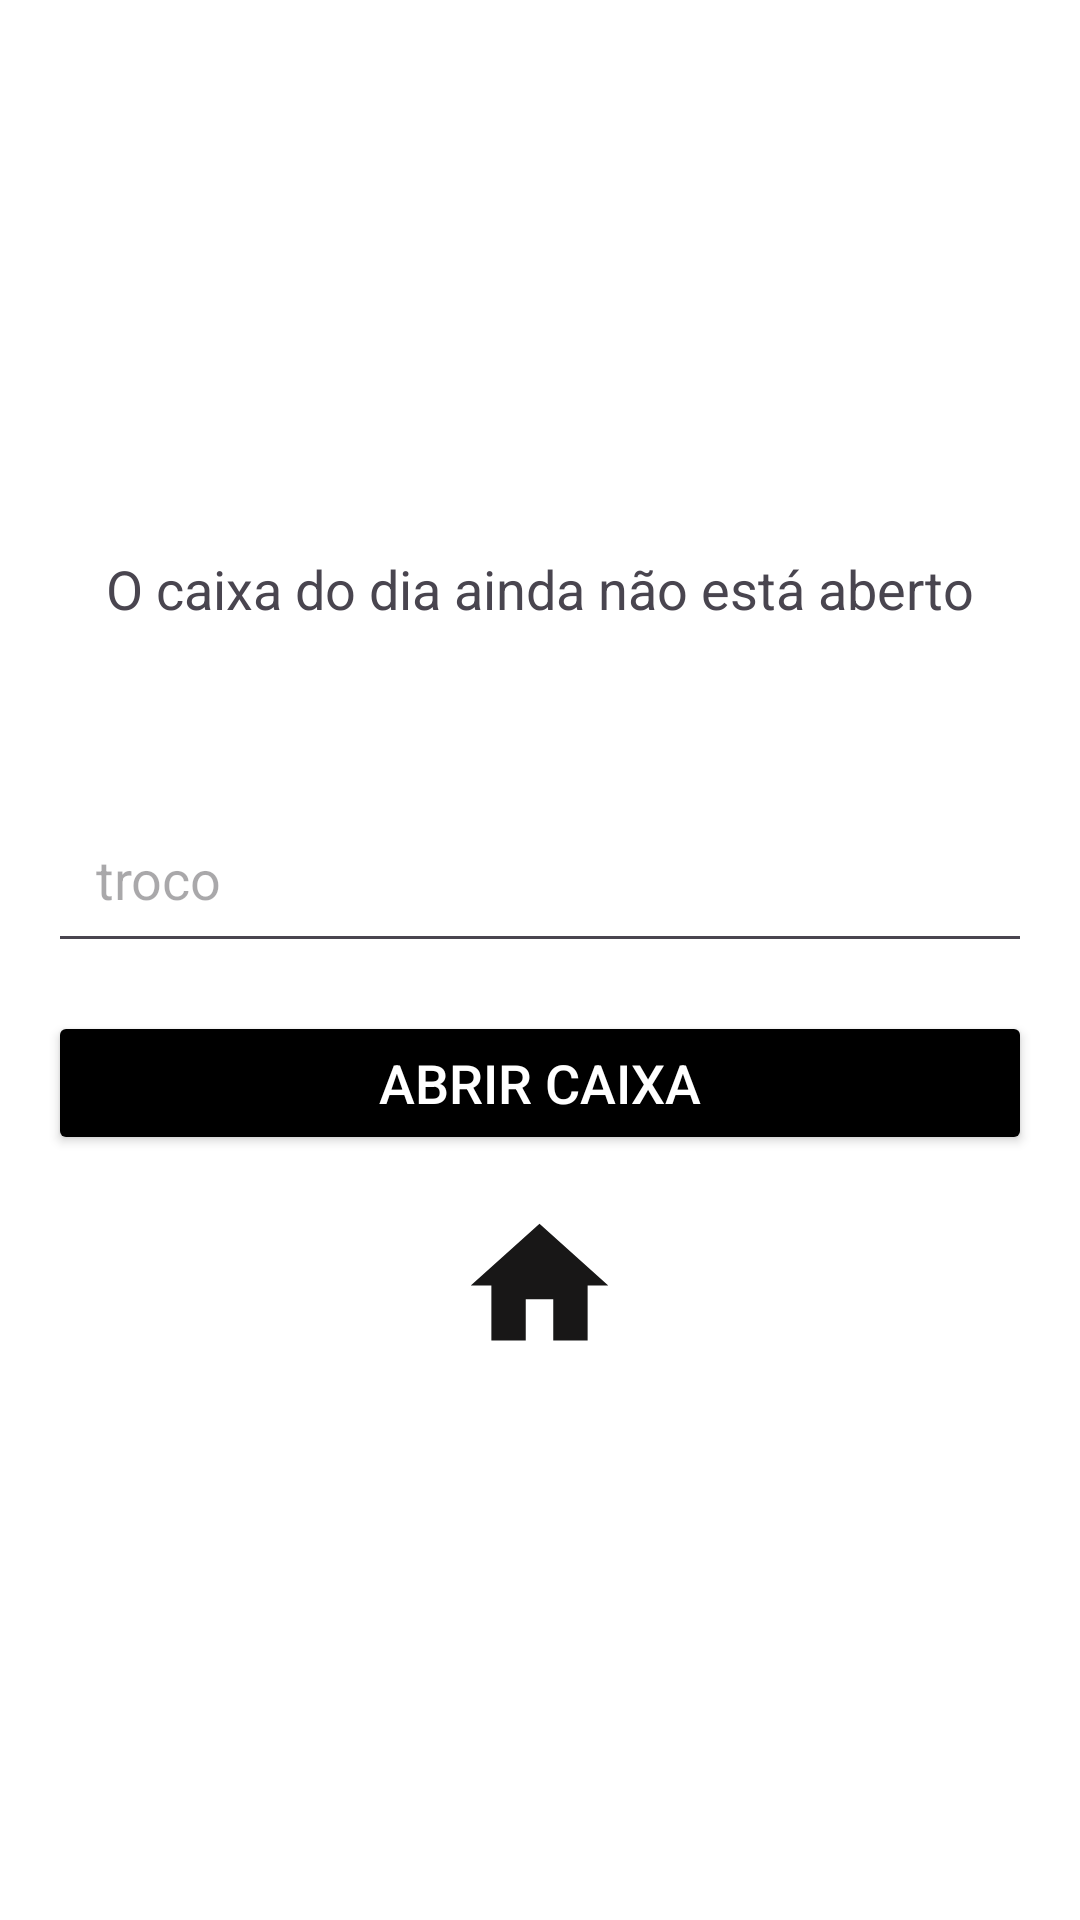

Point at icon controls on the screen. Image size 1080*1920, points as (x,y).
home buttom: (539,1282)
